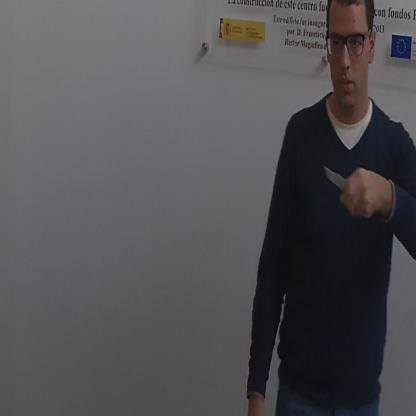knife: (316, 151, 359, 215)
